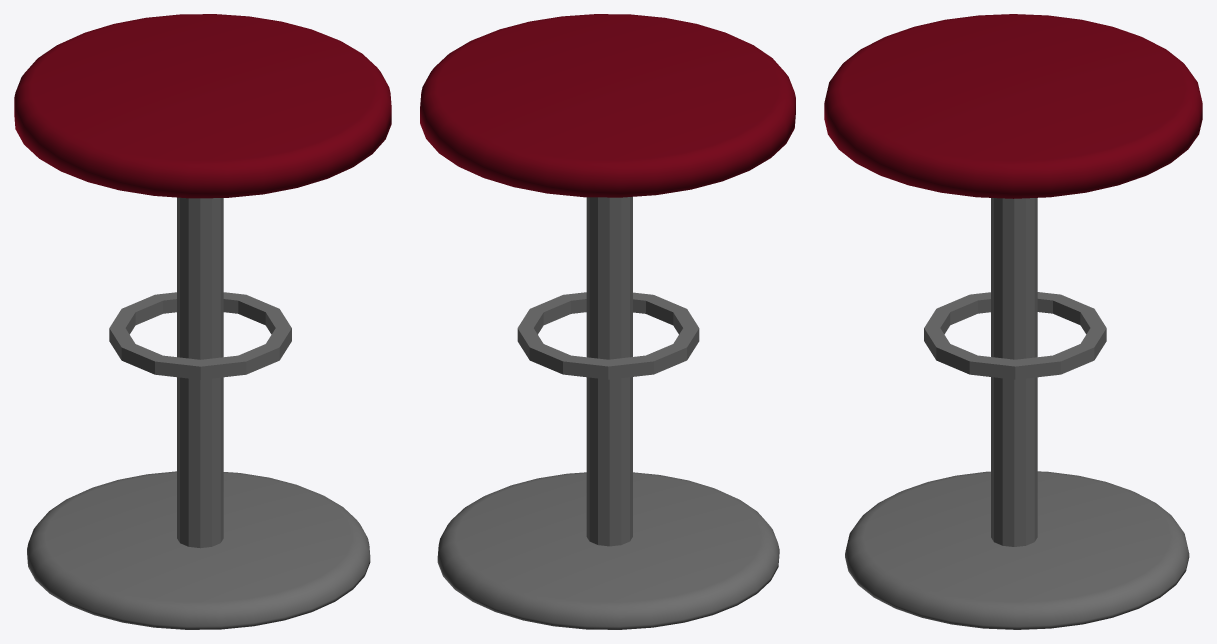
Rendered from bar chair.glb.
The picture shows the model from 3 angles, left to right: view 1: azimuth 30°, elevation 25°; view 2: azimuth 150°, elevation 25°; view 3: azimuth 270°, elevation 25°; orthographic projection.
Parts seen in each view (by area): view 1: bar chair.002, bar chair.001, bar chair.003; view 2: bar chair.002, bar chair.001, bar chair.003; view 3: bar chair.002, bar chair.001, bar chair.003.
Part boxes in pixels (box(x1,y1,x2,y2)): bar chair.002: box(14, 14, 391, 198); bar chair.001: box(27, 292, 370, 629); bar chair.003: box(177, 197, 223, 548); bar chair.002: box(420, 14, 795, 197); bar chair.001: box(437, 292, 779, 629); bar chair.003: box(586, 196, 632, 546); bar chair.002: box(824, 14, 1202, 198); bar chair.001: box(845, 292, 1189, 629); bar chair.003: box(991, 198, 1037, 546).
Bounding box in the file's own units: 0.4776 × 0.6545 × 0.4776.
